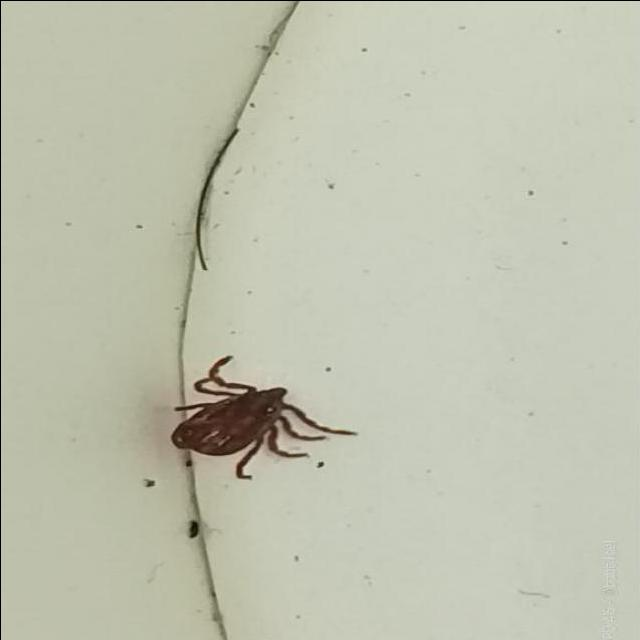Rhipicephalus Sanguineus-M: (171, 354, 359, 479)
